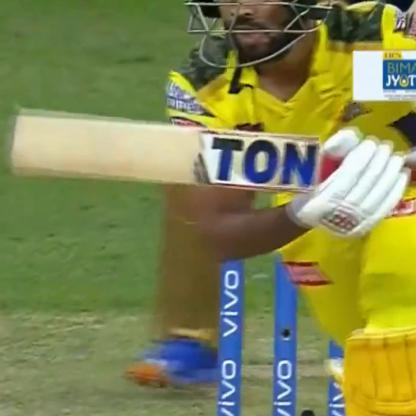bat: (4, 85, 398, 223)
